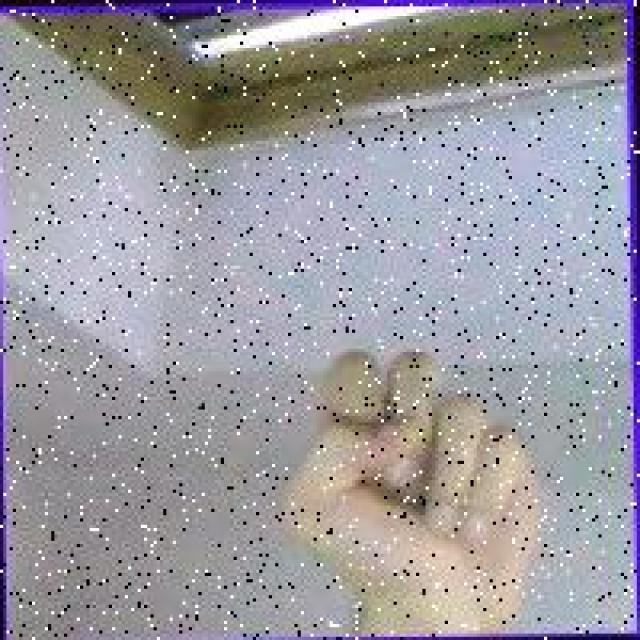S: (272, 339, 554, 624)
